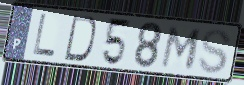5: (101, 16, 132, 68)
8: (132, 21, 164, 70)
D: (62, 14, 98, 63)
L: (31, 13, 58, 60)
M: (159, 24, 204, 71)
S: (196, 27, 233, 76)
